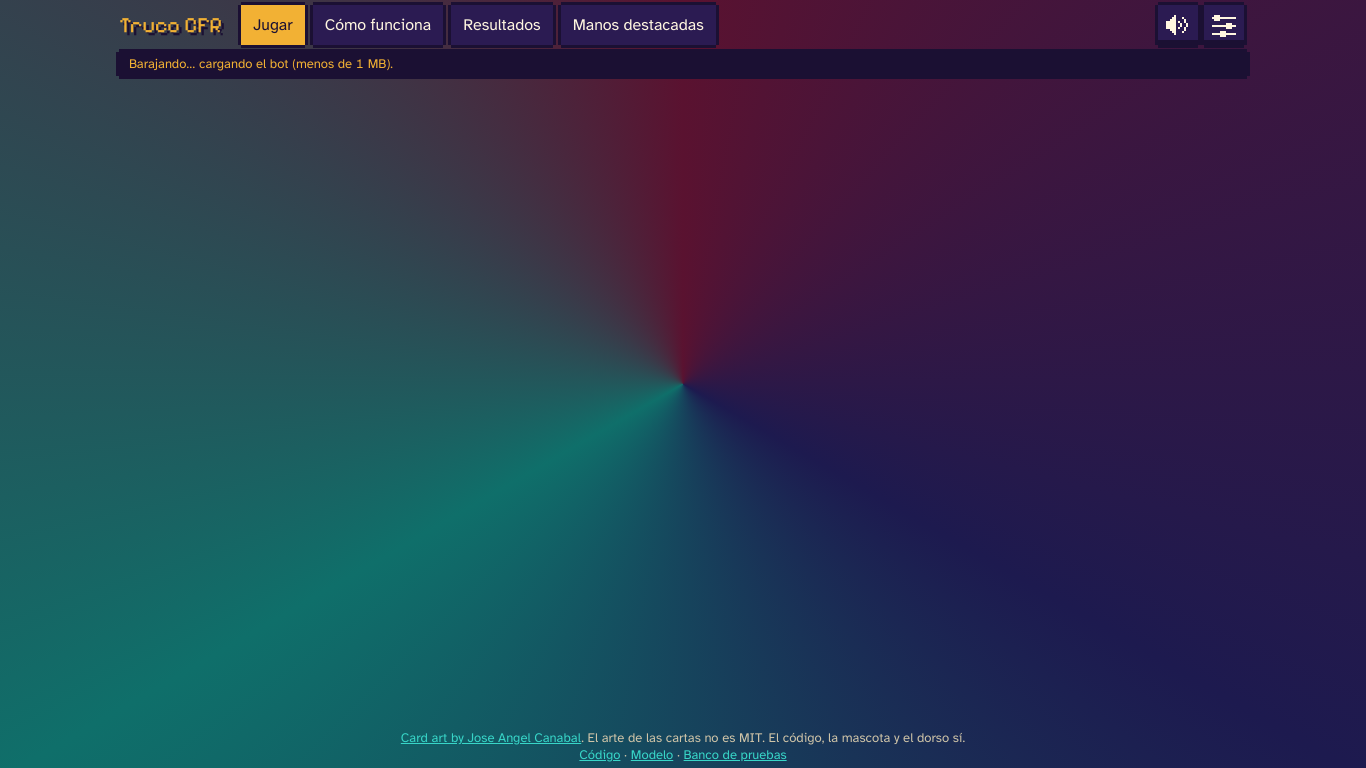
Test case: App › el interruptor CRT agrega y quita el overlay
This screenshot has width=1366, height=768.
Click the button named "Configuración": (1224, 25) 1204,5 -> 1244,45
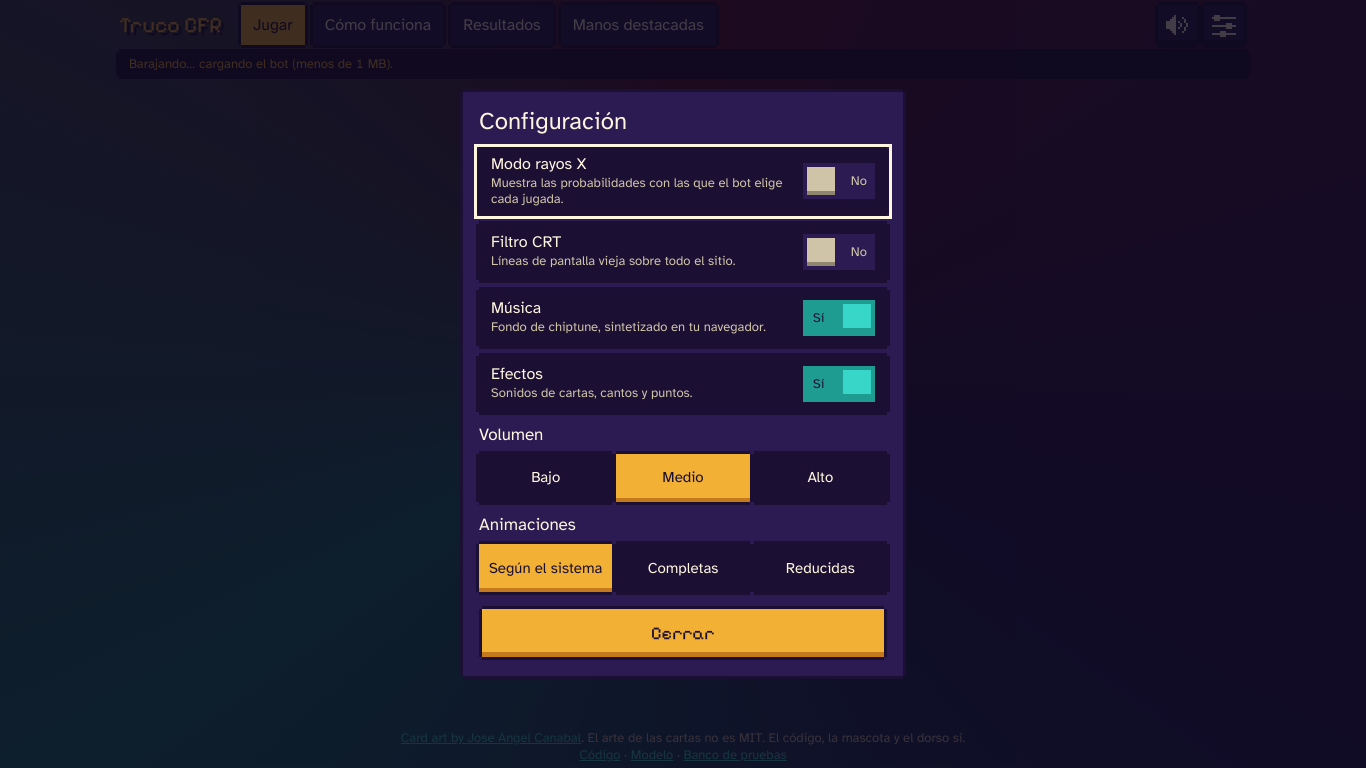
Click the switch labelled "Filtro CRT Líneas de pantalla vieja sobre todo el sitio. No": (683, 252) 479,224 -> 887,280
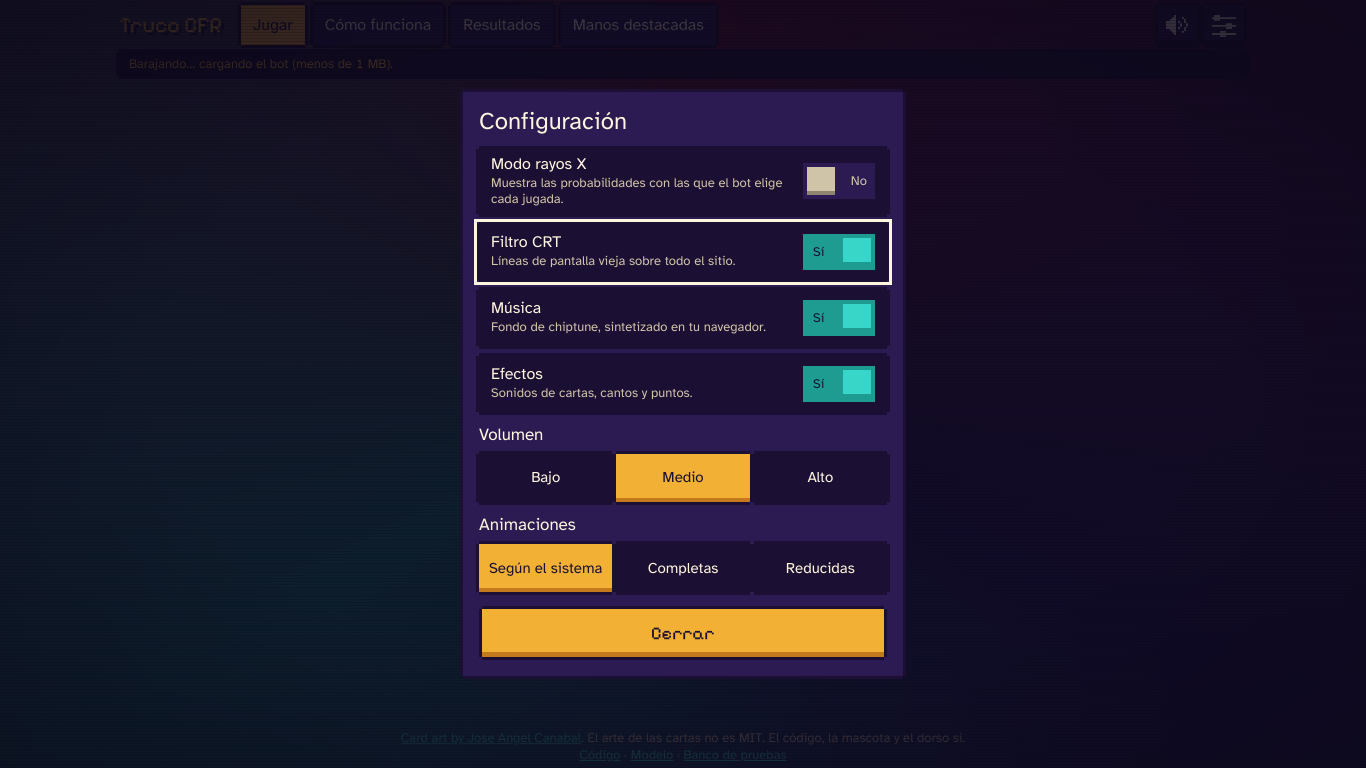
Expected: the element with class "crt" is shown
